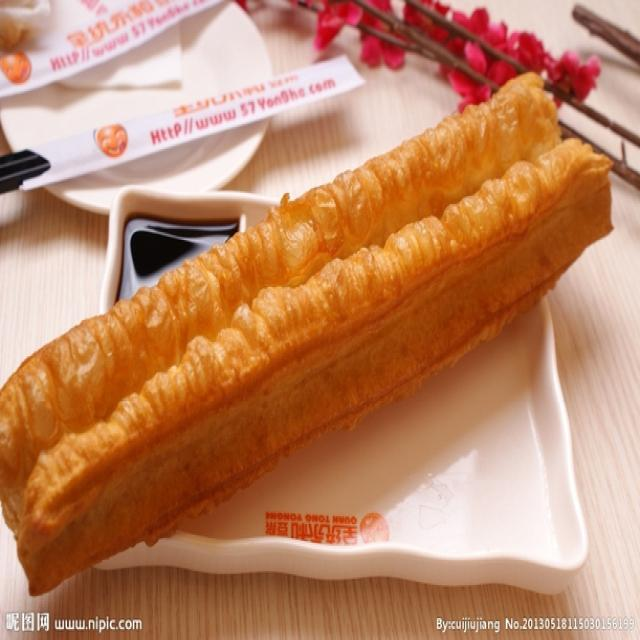炸货点心: (1, 63, 623, 588)
